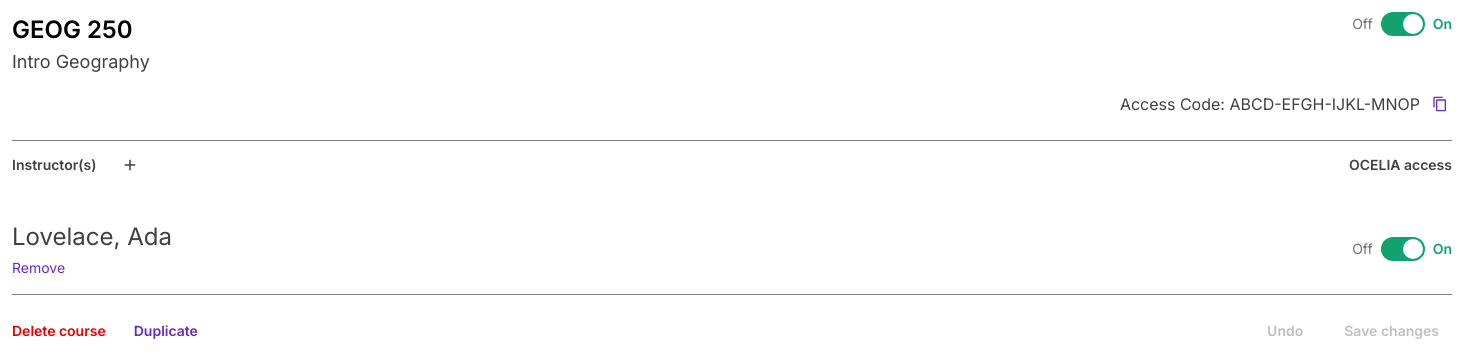
Test: CourseDetail (staged editing) › keeps Save changes disabled until there is a staged edit
expect the button "Save changes" is disabled: met, box [1331,317,1452,345]
Step 1. Click the switch named "Course student access" → coordinates (1403, 24), box [1381,12,1425,36]
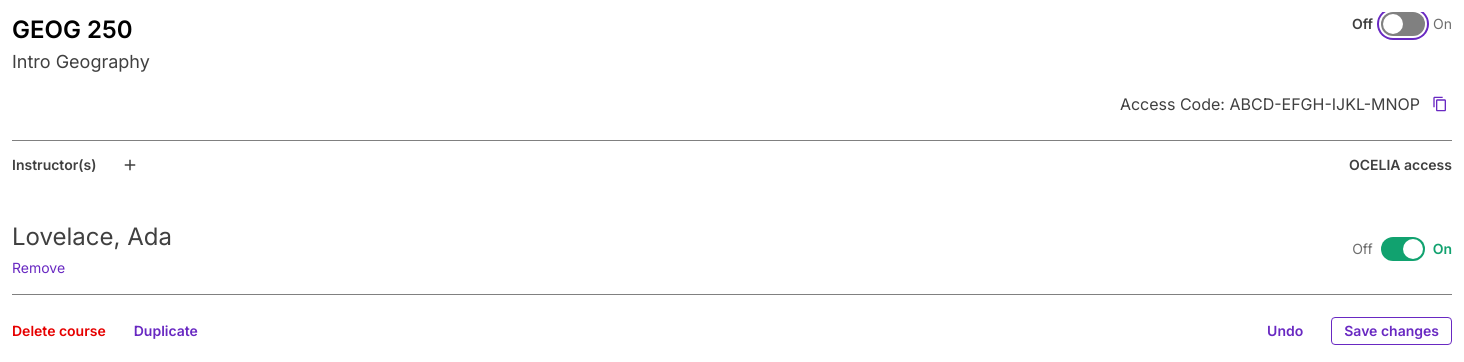
expect the button "Save changes" is enabled: met, box [1331,317,1452,345]
